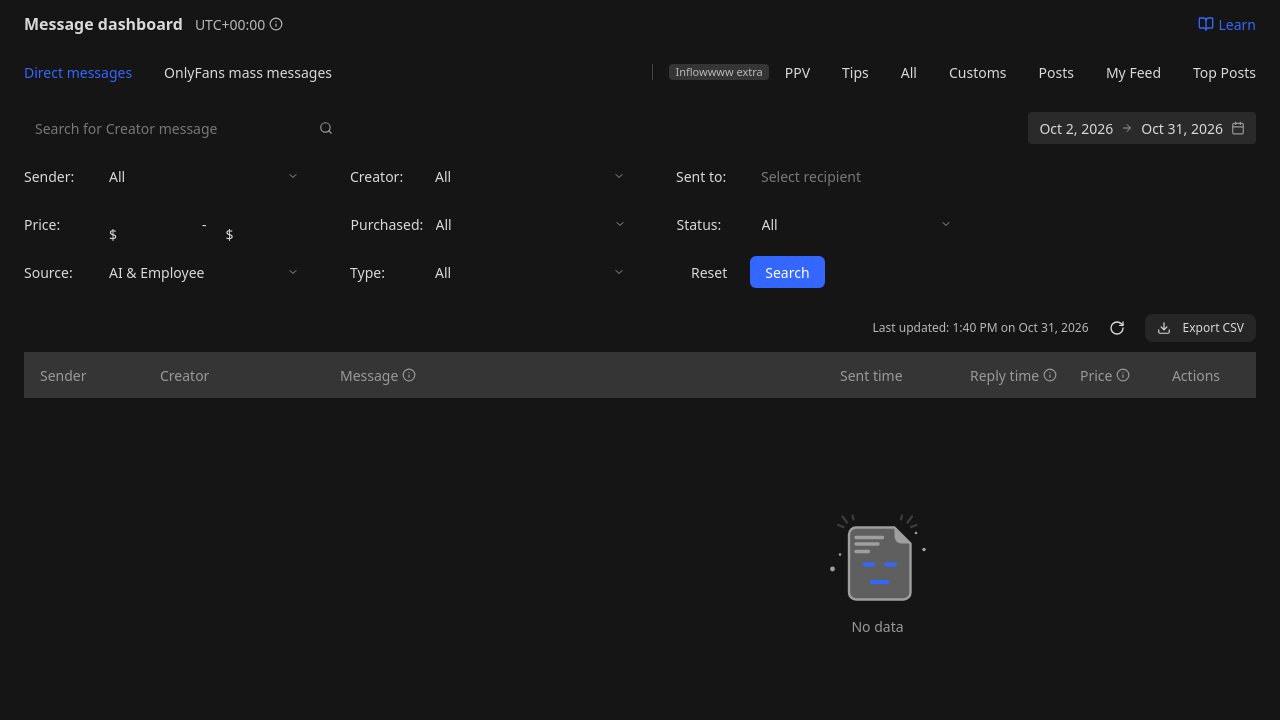
Test: the Message dashboard page › opens the owed-customs queue when the tab is clicked
What coordinates should you click on to do the following:
click the tab "Customs"
I would click on:
 (978, 72)
Its box is [949,62,1006,82].
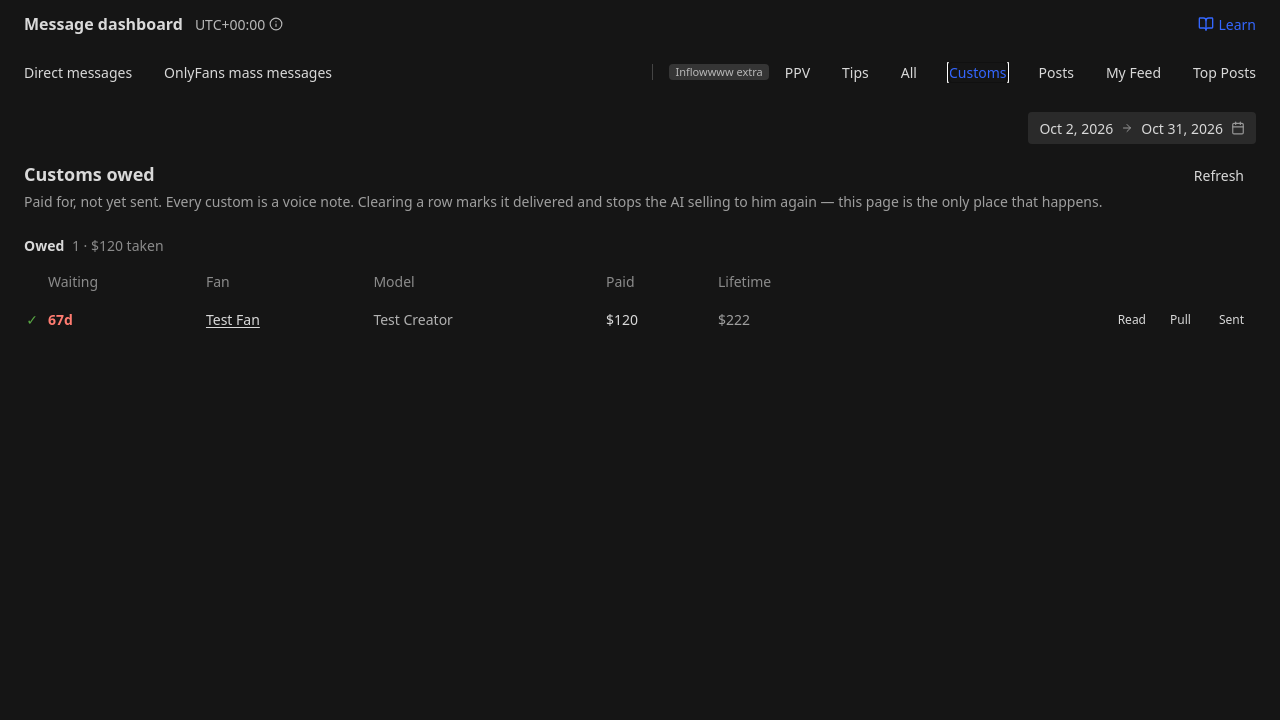
Now the heading "Customs owed" is shown, box [24,162,155,186]
Now the link "Test Fan" is shown, box [206,310,260,329]
